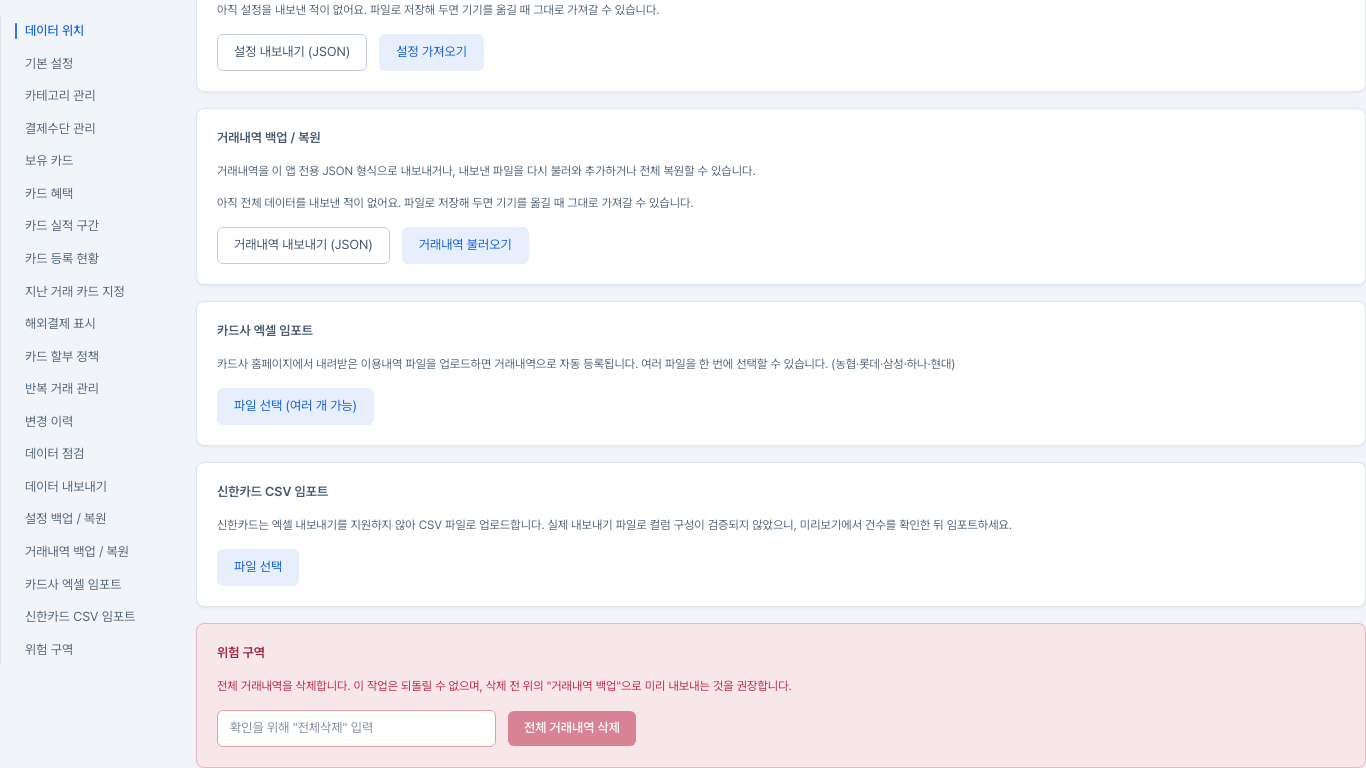
Scenario: 삭제 실행 › 대화상자에서 취소하면 부르지 않는다
(page scrolled)
Step 1. Type "전체삭제" into the field → coordinates (356, 729), box [217,710,496,747]
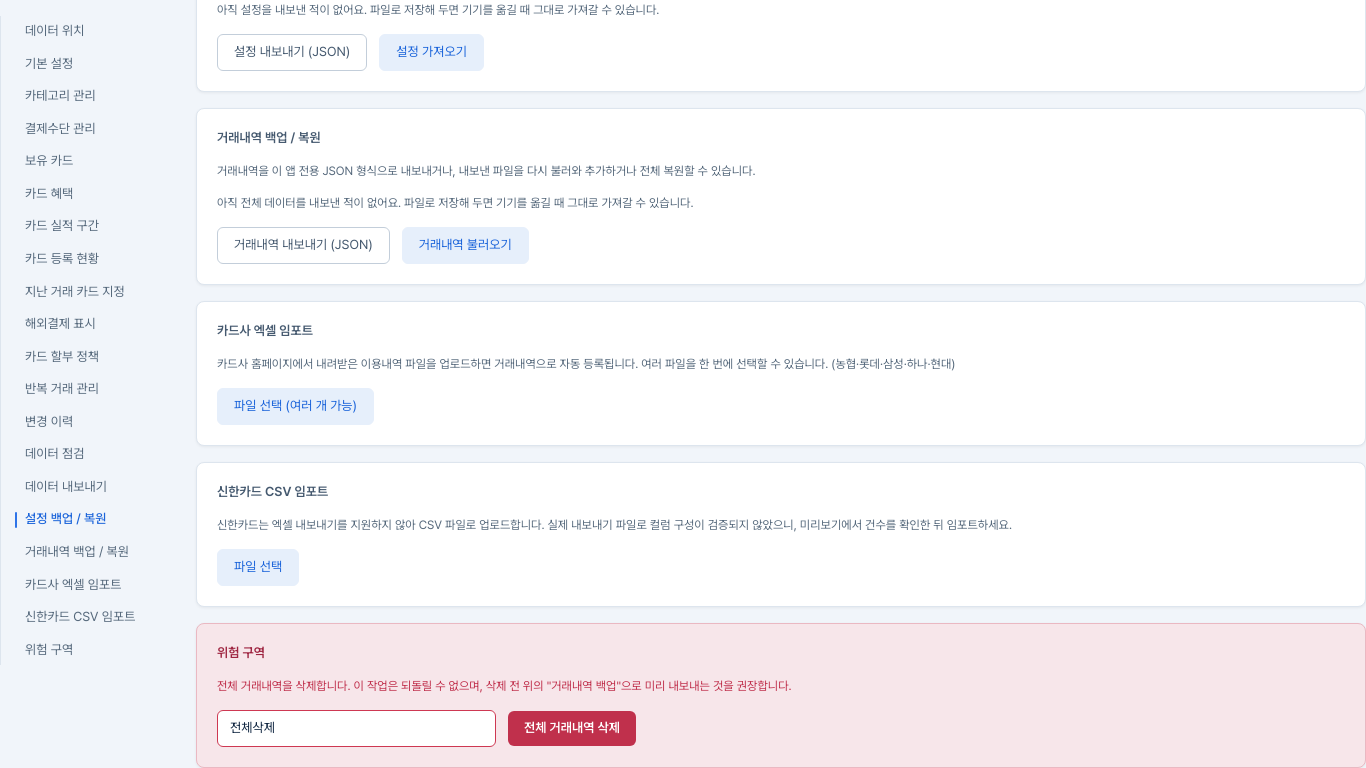
Step 2. Click the button "전체 거래내역 삭제" → coordinates (572, 729), box [508,711,636,746]
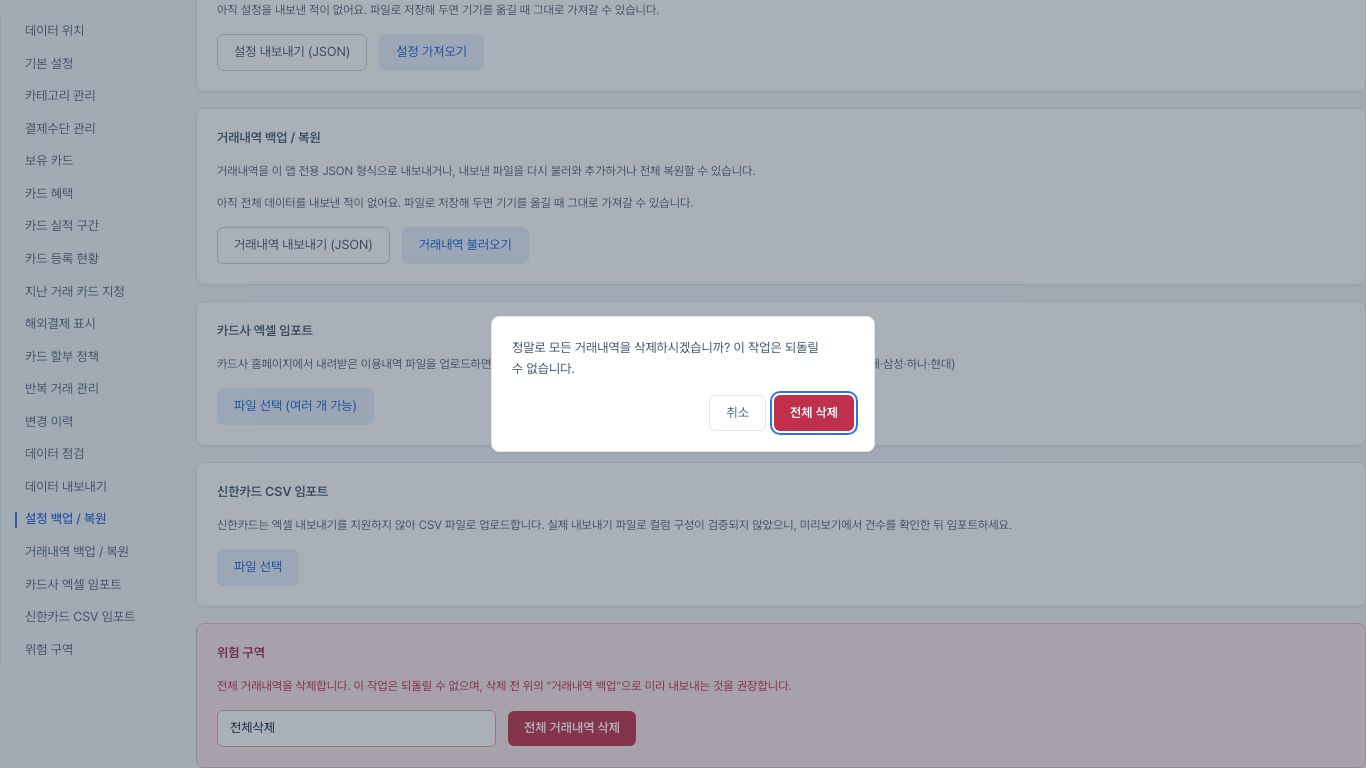
Step 3. Click the button "취소" → coordinates (738, 413), box [710,395,766,431]
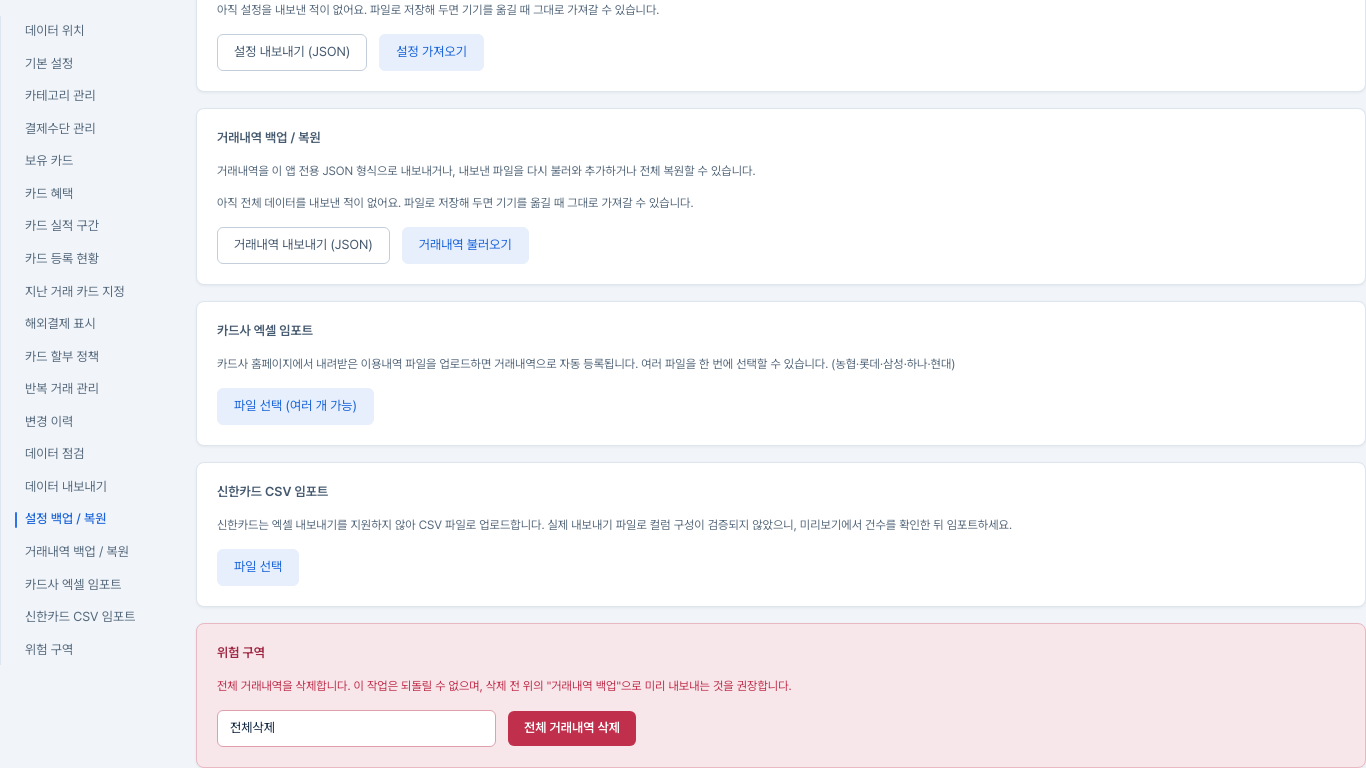
Expected: the dialog is gone
